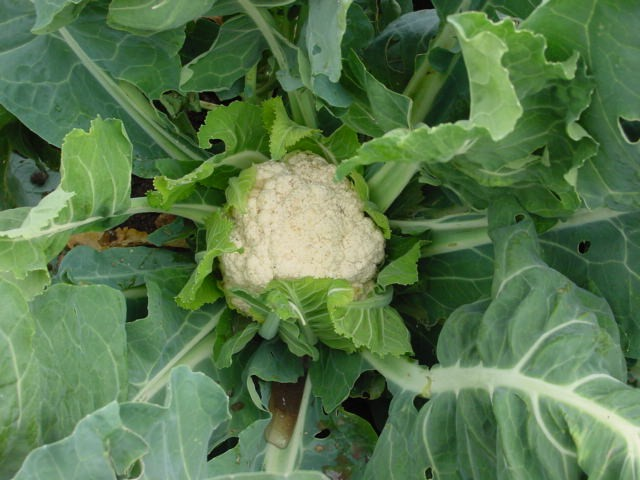cauliflower: (217, 150, 385, 324)
